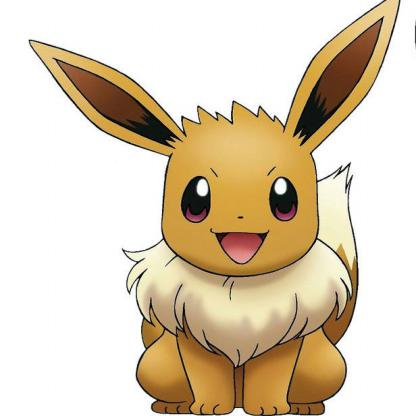Eevee: (23, 1, 416, 416)
